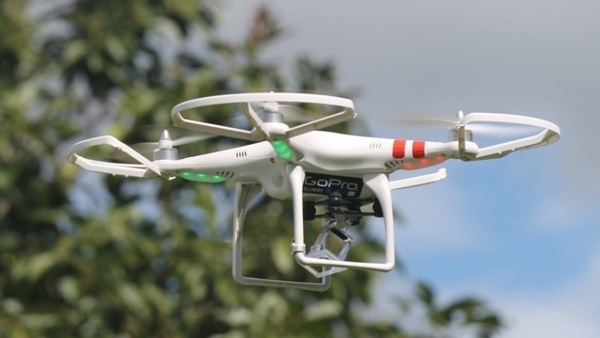drone: (66, 90, 563, 293)
